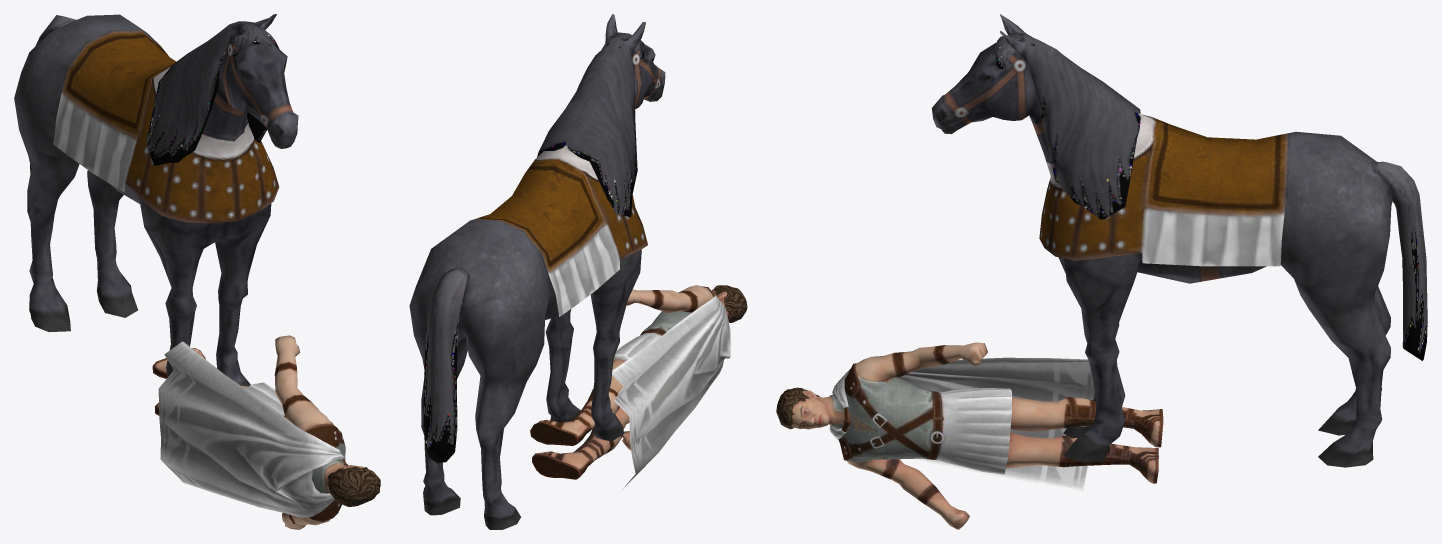
File: 24-contarius.glb
3 views of the same model, side by side, from view 1: azimuth 30°, elevation 25°; view 2: azimuth 150°, elevation 25°; view 3: azimuth 270°, elevation 25° (orthographic). The views are drawn at different scales.
Bounding box in the file's own units: 0.832 × 2.97 × 3.53.
2 materials, 2 textured.
